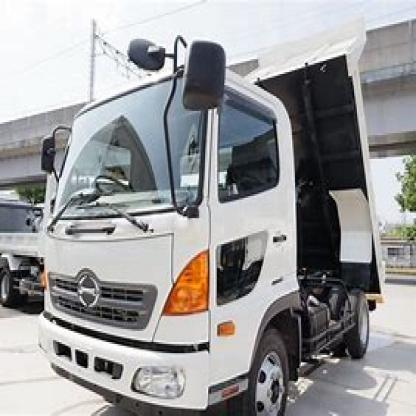dump_truck: (30, 44, 342, 405)
